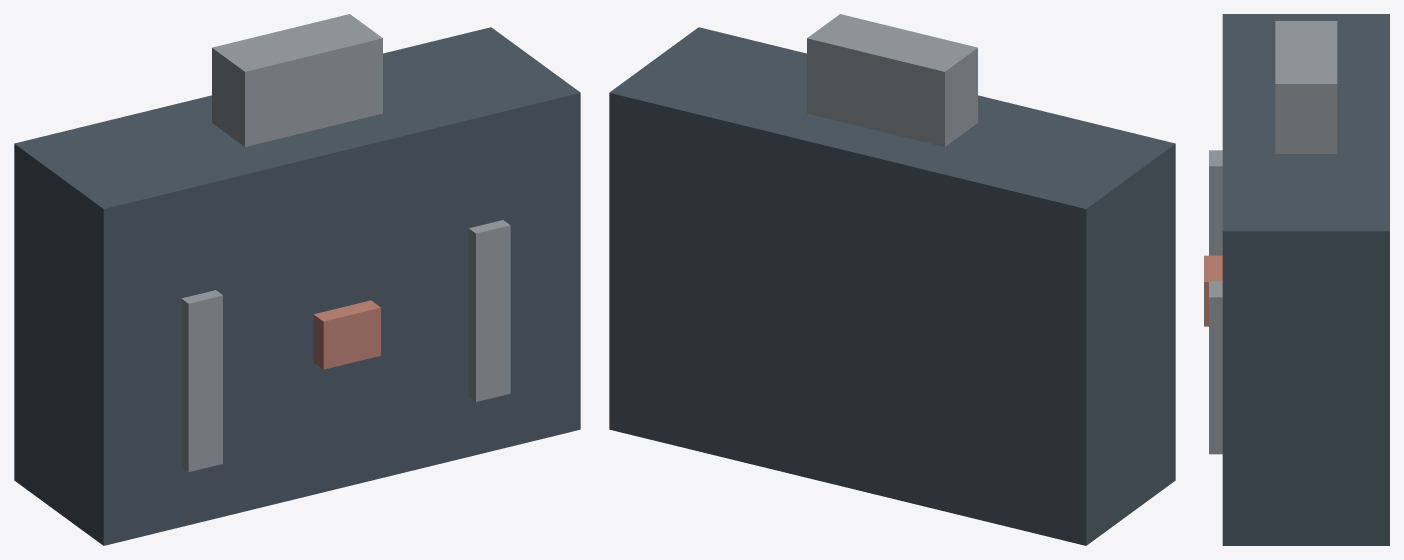
Rendered from tecnologia_case.glb.
3 views of the same model, side by side, from view 1: azimuth 30°, elevation 25°; view 2: azimuth 150°, elevation 25°; view 3: azimuth 270°, elevation 25° (orthographic). The views are drawn at different scales.
Size of the model in its own units: 0.83 by 0.685 by 0.3.
